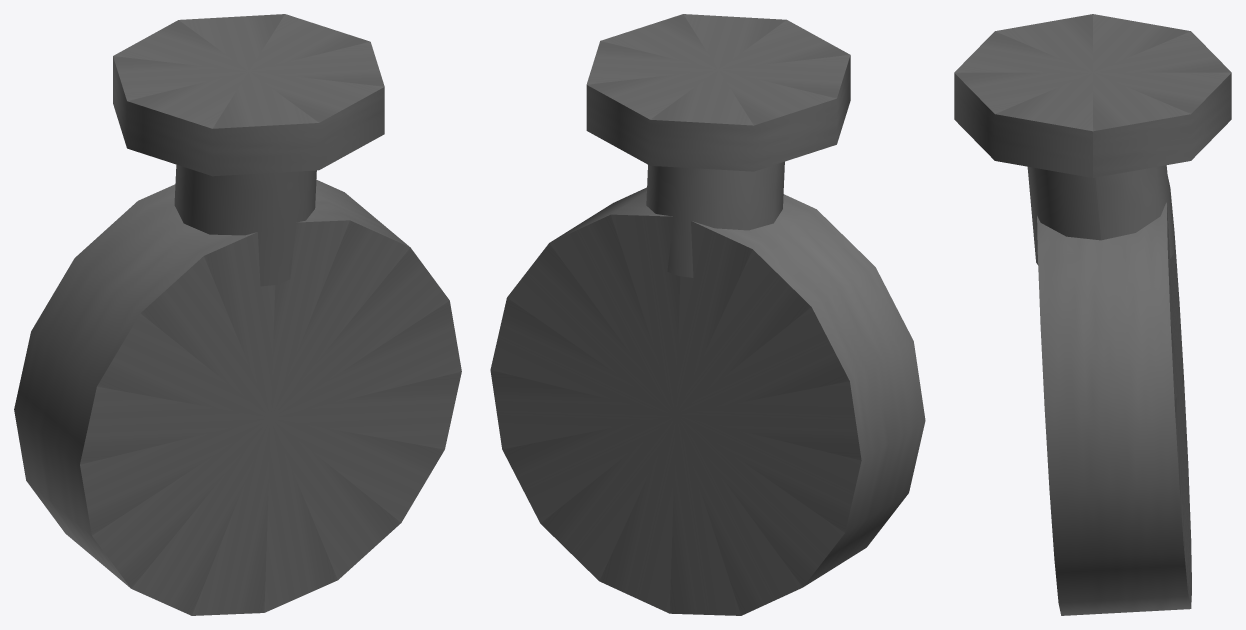
The model's file is mastarmcurve_4x1_c4_up.obj.
3 views of the same model, side by side, from view 1: azimuth 30°, elevation 25°; view 2: azimuth 150°, elevation 25°; view 3: azimuth 270°, elevation 25° (orthographic). The views are drawn at different scales.
Visible parts, largest first — view 1: mastarm_4x1_c4_up; view 2: mastarm_4x1_c4_up; view 3: mastarm_4x1_c4_up.
Part boxes in pixels (box(x1,y1,x2,y2)): mastarm_4x1_c4_up: box(14, 14, 461, 615); mastarm_4x1_c4_up: box(490, 14, 925, 615); mastarm_4x1_c4_up: box(954, 14, 1231, 615).
Bounding box in the file's own units: 0.6272 × 0.8317 × 0.4.
